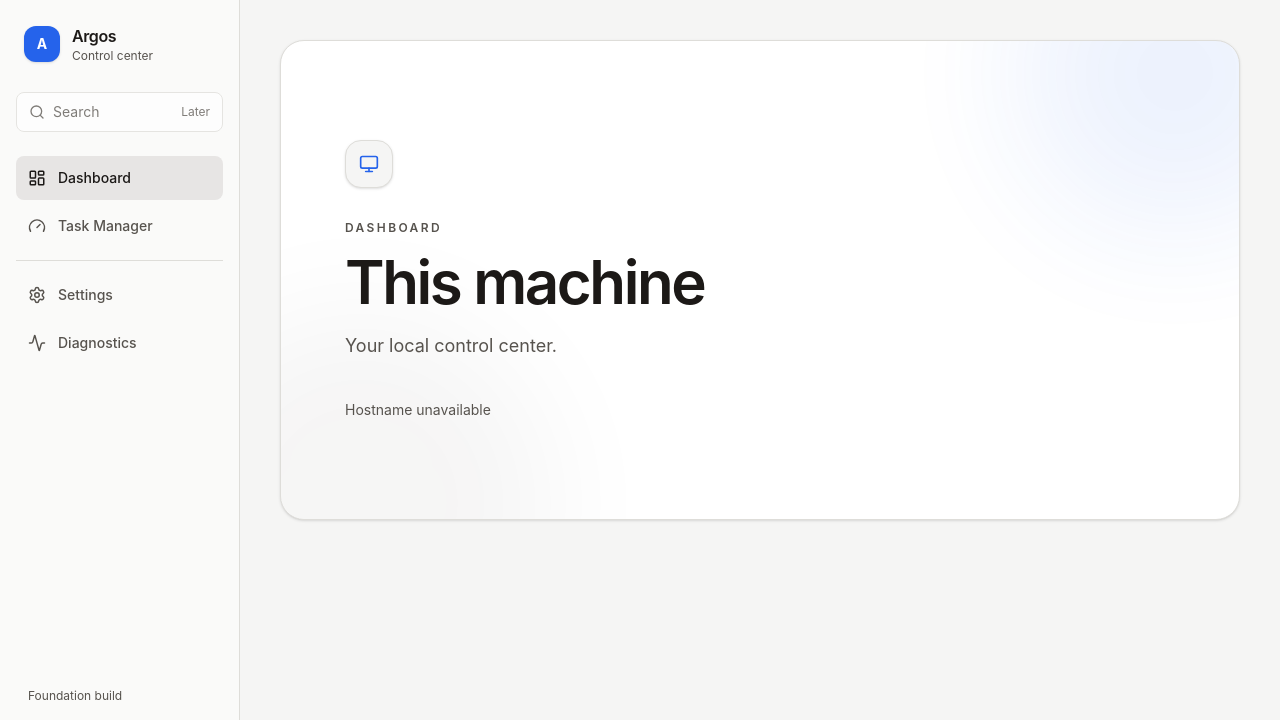
application shell › stays usable when hostname is unavailable without exposing the failure
The width and height of the screenshot is (1280, 720).
Expected: the text "Hostname unavailable" is shown, x1=345 y1=401 x2=491 y2=418
Expected: the heading "This machine" is shown, x1=345 y1=252 x2=704 y2=312
Click the link "Settings" at [70, 295], box x1=28 y1=286 x2=113 y2=304
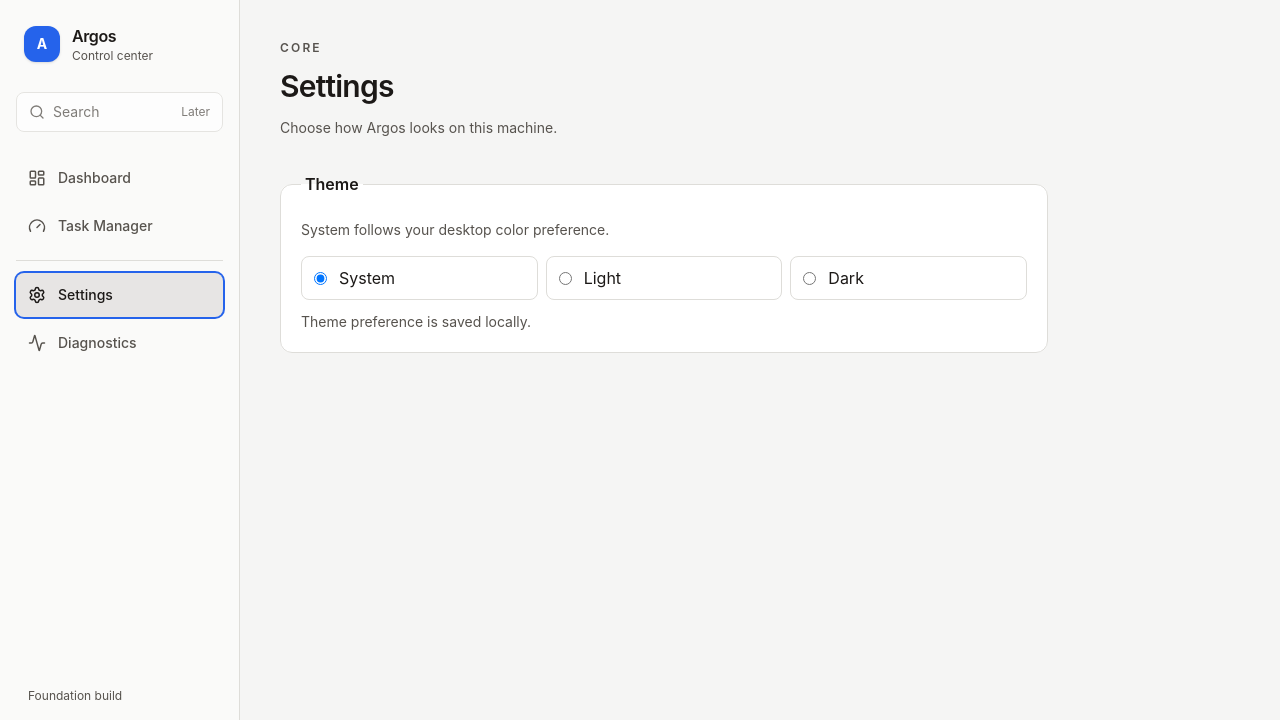
Click the link "Diagnostics" at [82, 343], box x1=28 y1=334 x2=137 y2=352
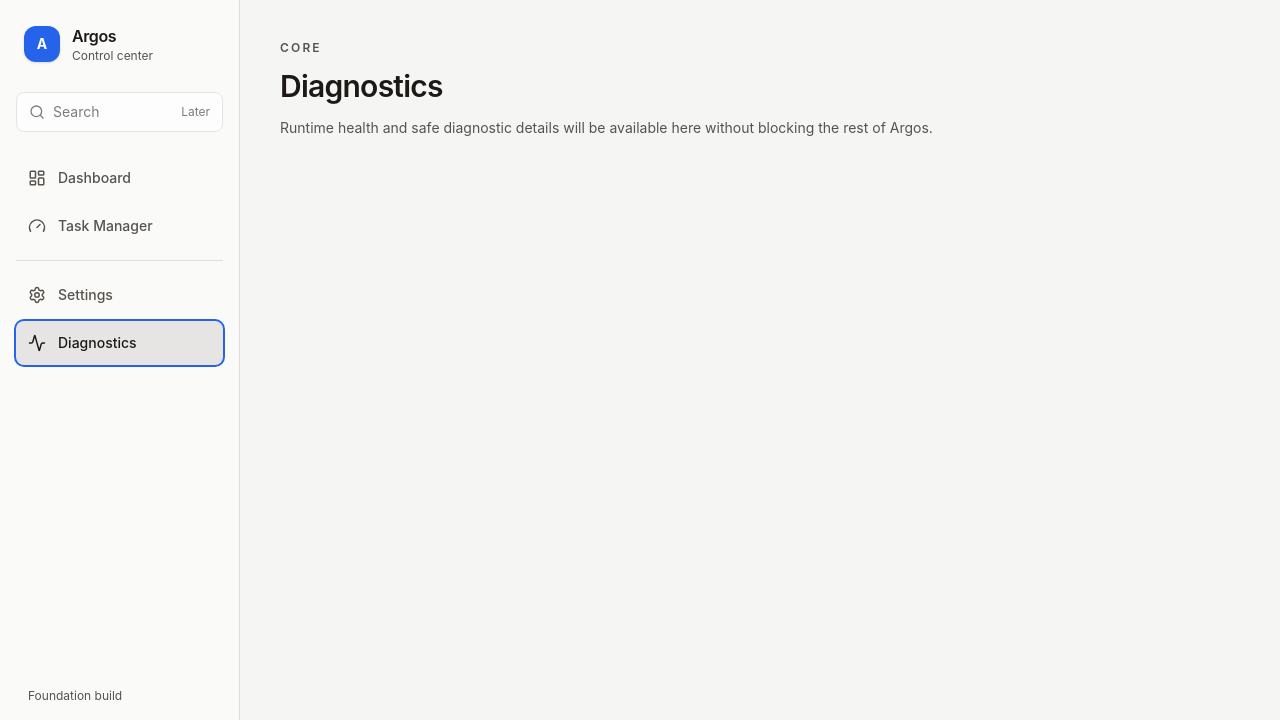
Click the link "Dashboard" at [80, 178], box x1=28 y1=169 x2=131 y2=187
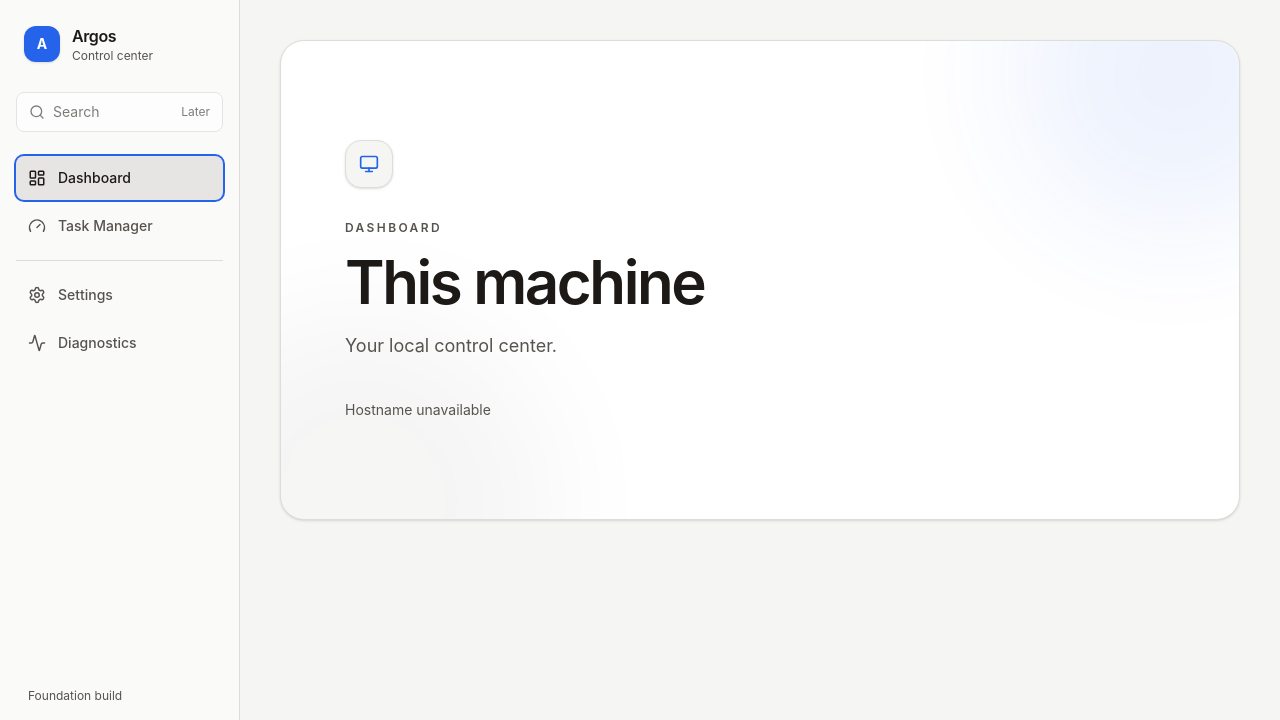
Expected: the navigation bar is shown, x1=16 y1=156 x2=223 y2=352
Result: the text "Hostname unavailable" is shown at x1=345 y1=401 x2=491 y2=418
